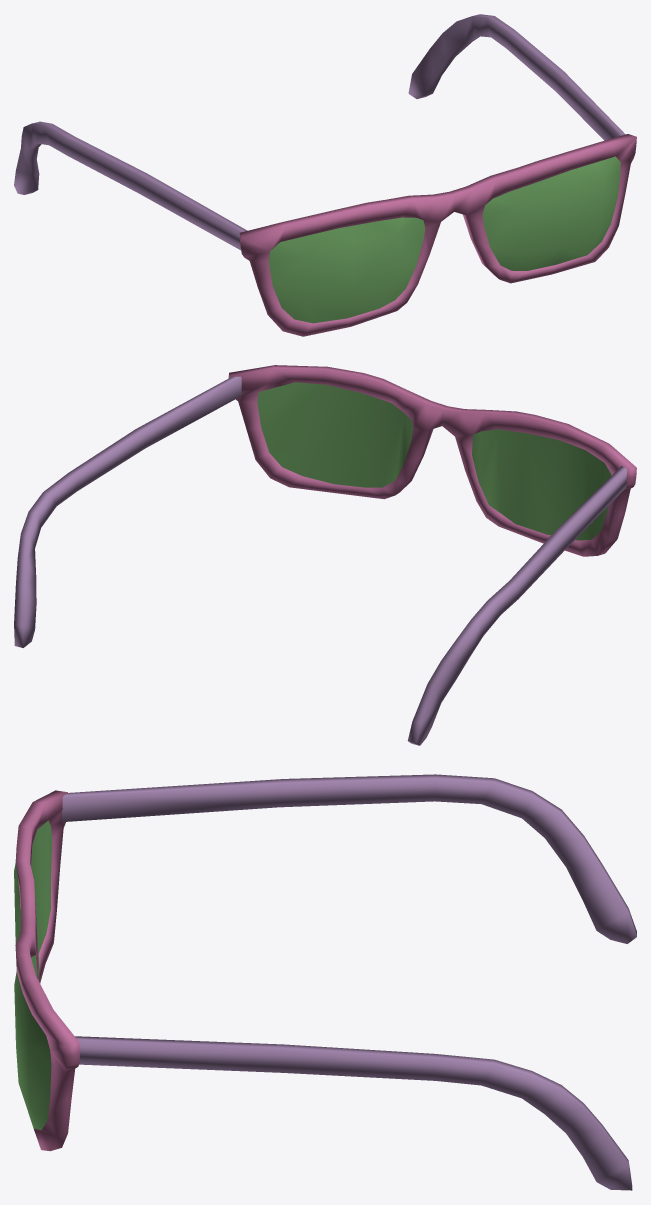
The picture shows the model from 3 angles, top to bottom: view 1: azimuth 30°, elevation 25°; view 2: azimuth 150°, elevation 25°; view 3: azimuth 270°, elevation 25°; orthographic projection. The views are drawn at different scales.
Parts seen in each view (by area): view 1: glass2_klienerglasses_reference, klienerglasses_reference.002, klienerglasses_reference.001; view 2: glass2_klienerglasses_reference, klienerglasses_reference.002, klienerglasses_reference.001; view 3: klienerglasses_reference.001, klienerglasses_reference.002, glass2_klienerglasses_reference.
Boxes of the visible parts, x1=… form: glass2_klienerglasses_reference: x1=269, y1=156, x2=620, y2=323; klienerglasses_reference.002: x1=239, y1=134, x2=636, y2=336; klienerglasses_reference.001: x1=14, y1=14, x2=625, y2=250; glass2_klienerglasses_reference: x1=257, y1=382, x2=611, y2=540; klienerglasses_reference.002: x1=228, y1=365, x2=636, y2=556; klienerglasses_reference.001: x1=14, y1=376, x2=626, y2=745; klienerglasses_reference.001: x1=62, y1=774, x2=636, y2=1190; klienerglasses_reference.002: x1=15, y1=790, x2=79, y2=1151; glass2_klienerglasses_reference: x1=14, y1=820, x2=52, y2=1130.
Size of the model in its own units: 6.59 by 1.81 by 6.05.
